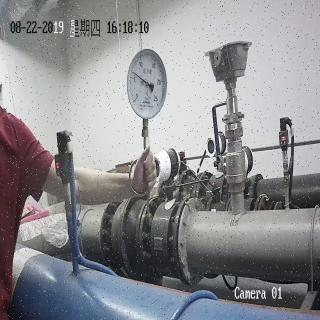gauge: (125, 48, 167, 120), (129, 94, 139, 107), (153, 98, 162, 110), (145, 78, 151, 88), (130, 70, 138, 74)
